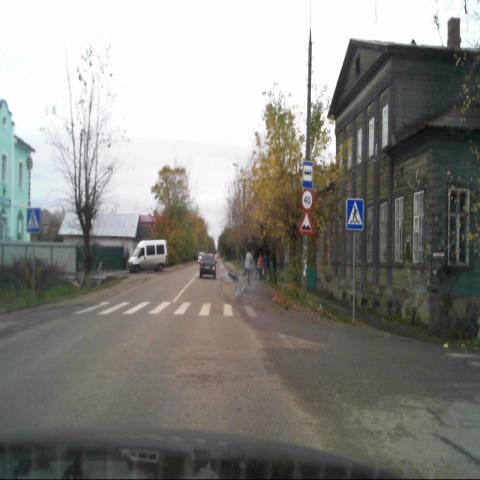1_16: (298, 211, 312, 234)
